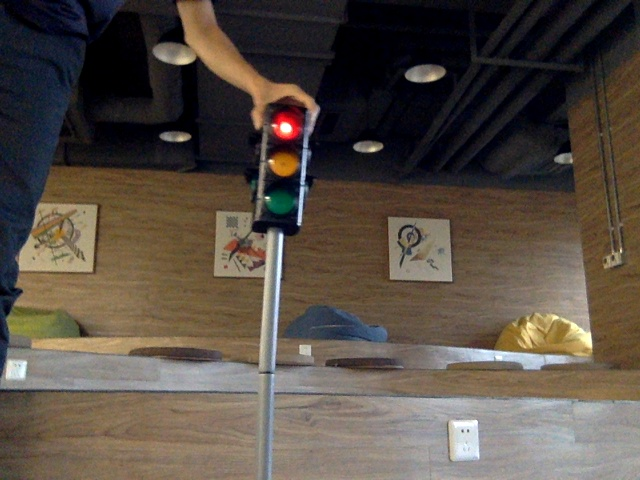red: (260, 112, 299, 226)
